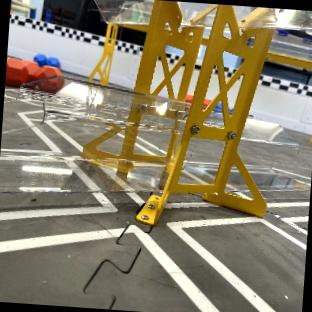Goal: (15, 0, 312, 224), (138, 4, 312, 222), (89, 23, 118, 84)
V5_RED: (185, 94, 192, 101), (203, 99, 210, 105)
